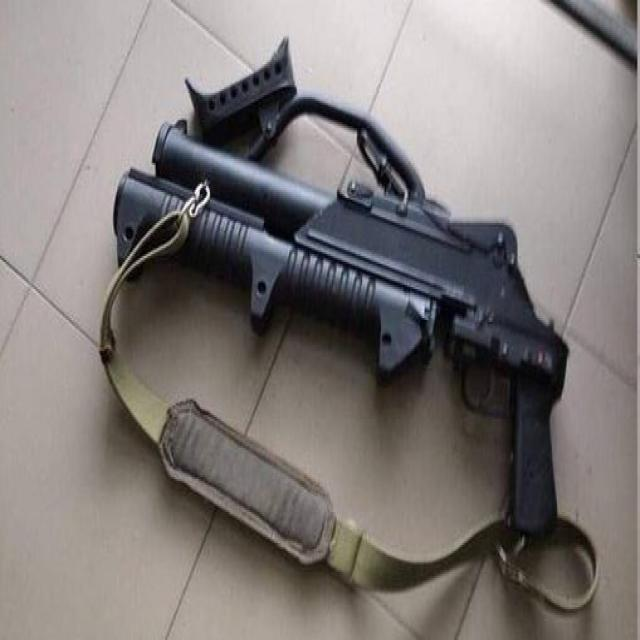shotgun: (103, 113, 570, 544)
